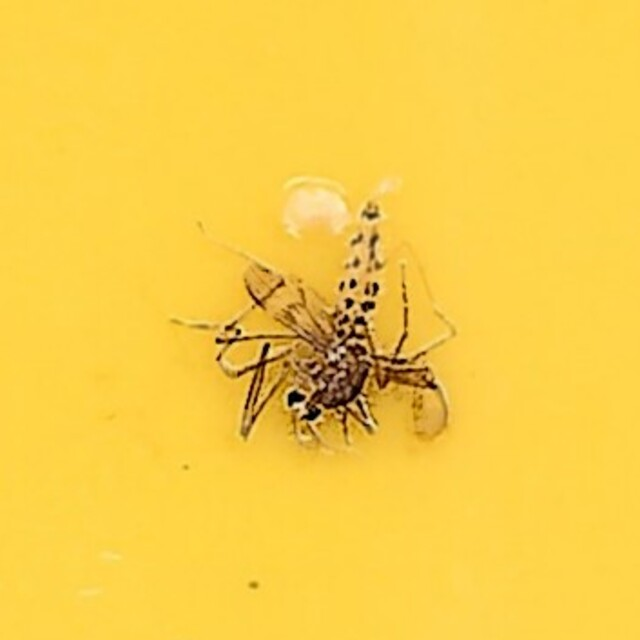Nematocera: (181, 186, 459, 454)
